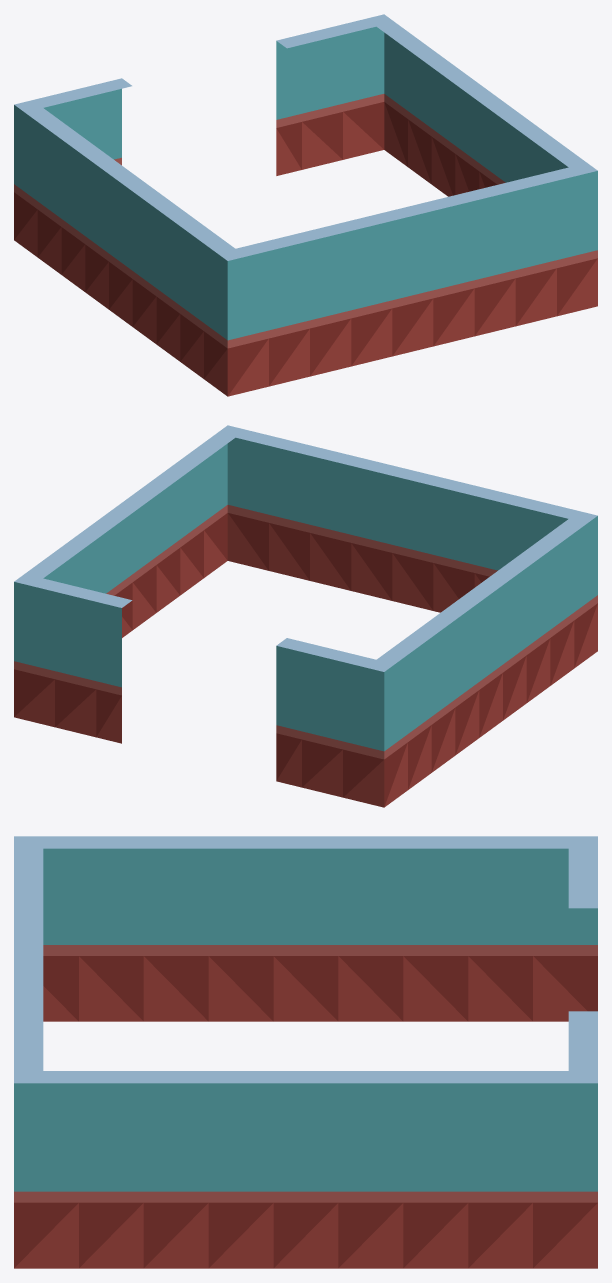
File: Elevator2.fbx
3 views of the same model, one above another, from view 1: azimuth 30°, elevation 25°; view 2: azimuth 150°, elevation 25°; view 3: azimuth 270°, elevation 25° (orthographic). The views are drawn at different scales.
Visible parts, largest first — view 1: Elevator2OutsideLvl1, Elevator2WallThick; view 2: Elevator2OutsideLvl1, Elevator2WallThick; view 3: Elevator2OutsideLvl1, Elevator2WallThick.
Part boxes in pixels (box(x1,y1,x2,y2)): Elevator2OutsideLvl1: box(14, 26, 597, 396); Elevator2WallThick: box(14, 14, 597, 260); Elevator2OutsideLvl1: box(14, 437, 597, 807); Elevator2WallThick: box(14, 425, 597, 671); Elevator2OutsideLvl1: box(14, 848, 597, 1268); Elevator2WallThick: box(14, 836, 597, 1083).
Size of the model in its own units: 600 by 210 by 600.
